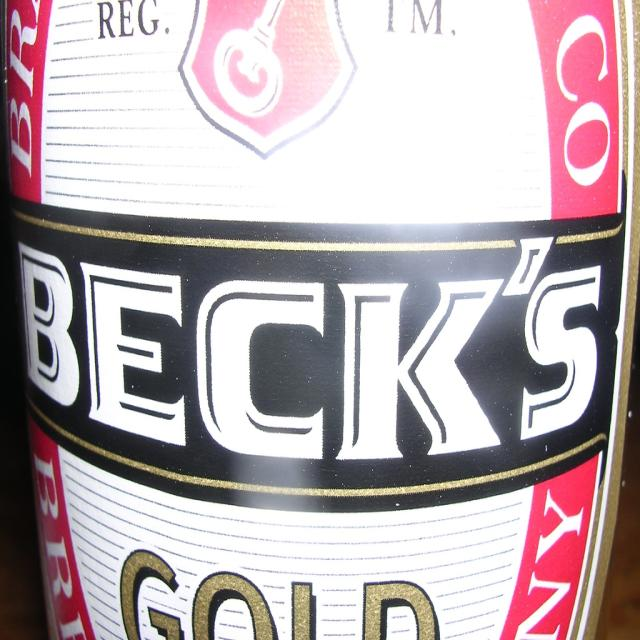becks: (2, 2, 640, 640)
